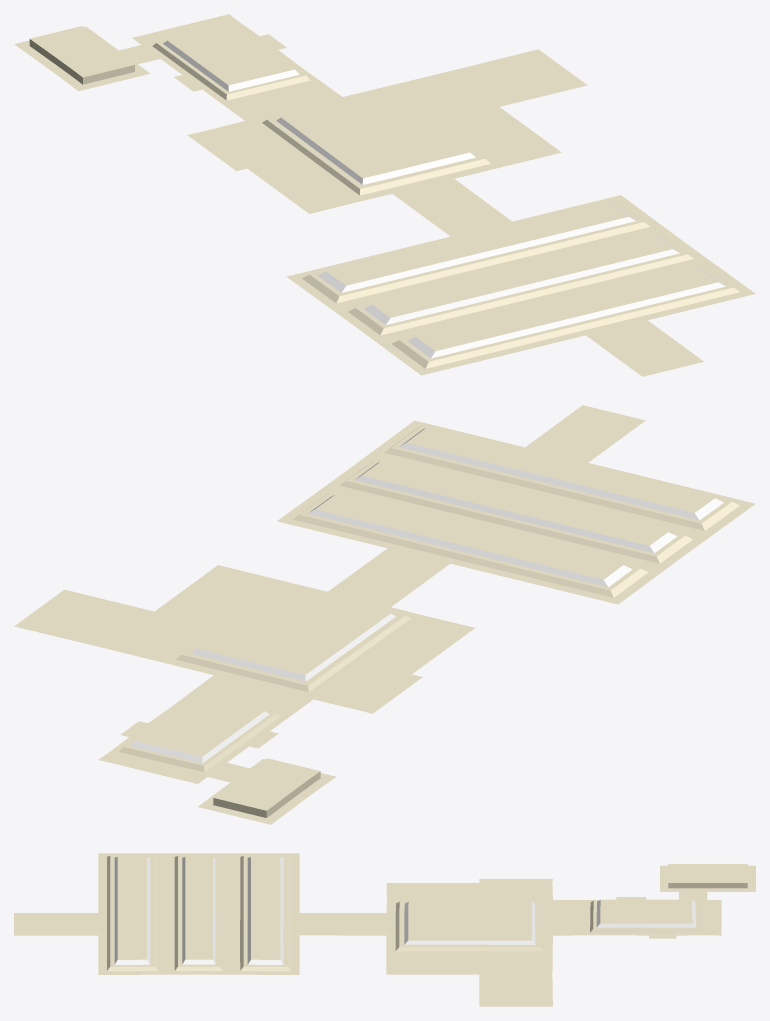
The model's file is Ceiling01_v2.FBX.
3 views of the same model, one above another, from view 1: azimuth 30°, elevation 25°; view 2: azimuth 150°, elevation 25°; view 3: azimuth 270°, elevation 25° (orthographic). The views are drawn at different scales.
Parts seen in each view (by area): view 1: Object053; view 2: Object053; view 3: Object053.
Boxes of the visible parts, left/top/right/bottom form: Object053: left=14, top=14, right=755, bottom=376; Object053: left=14, top=405, right=755, bottom=824; Object053: left=14, top=853, right=755, bottom=1006.
Bounding box in the file's own units: 3227 × 60 × 6592.
